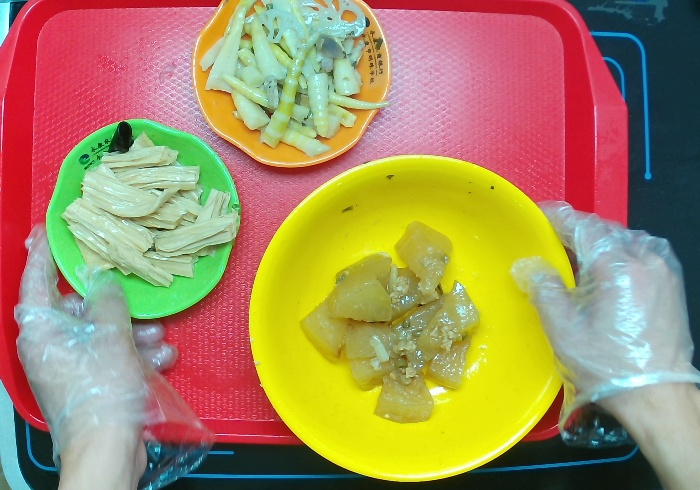YKMZ-Huang_Se_Tang_Wan: (241, 151, 582, 490)
YKMZ-Ju_Se_Ao_Bian_Wan: (187, 1, 400, 177)
YKMZ-Lv_Se_Ao_Bian_Wan: (43, 113, 247, 326)
